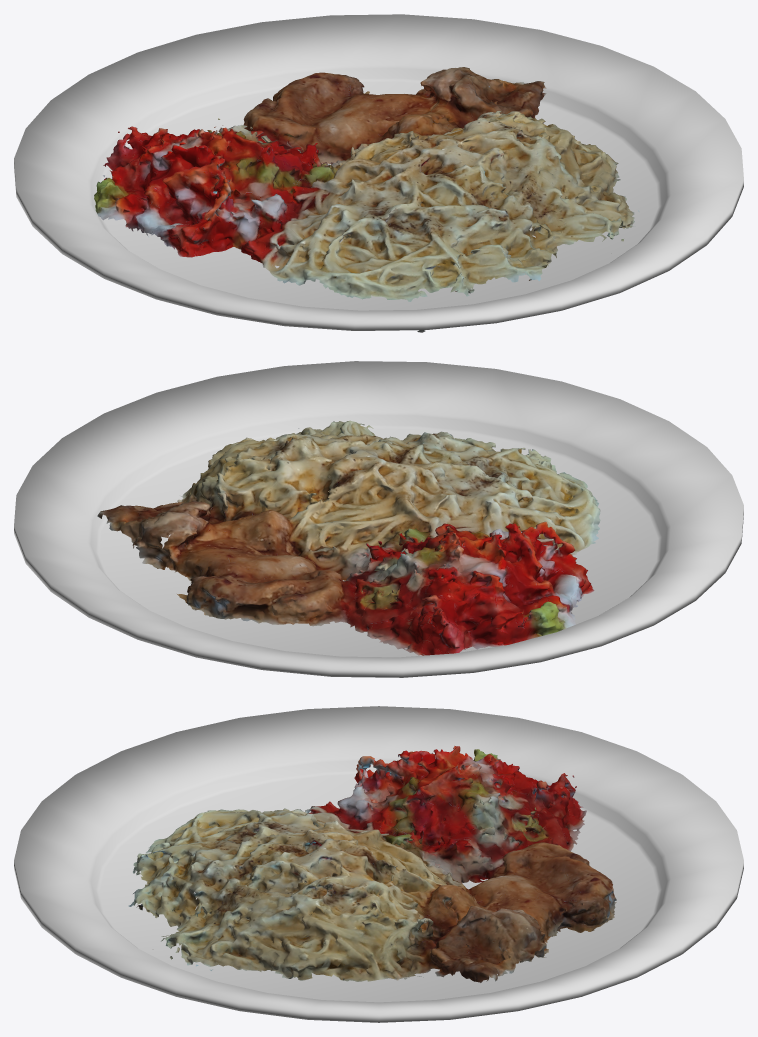
File: Makarna.glb
3 renders of one model, top to bottom at view 1: azimuth 30°, elevation 25°; view 2: azimuth 150°, elevation 25°; view 3: azimuth 270°, elevation 25°, orthographic.
Parts seen in each view (by area): view 1: Cylinder_Cylinder.001, Makarna2; view 2: Cylinder_Cylinder.001, Makarna2; view 3: Cylinder_Cylinder.001, Makarna2.
Part boxes in pixels (x1,y1,x2,y2): Cylinder_Cylinder.001: (14,14,743,330); Makarna2: (94,67,639,332); Cylinder_Cylinder.001: (14,361,743,677); Makarna2: (97,420,600,655); Cylinder_Cylinder.001: (14,706,743,1022); Makarna2: (128,746,616,982).
Bounding box in the file's own units: 0.3176 × 0.0489 × 0.3176.
2 materials, 1 textured.
